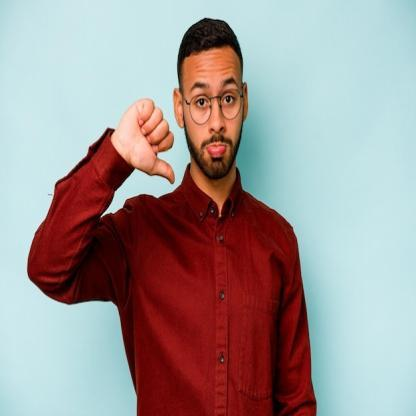thumb_down: (114, 92, 177, 185)
